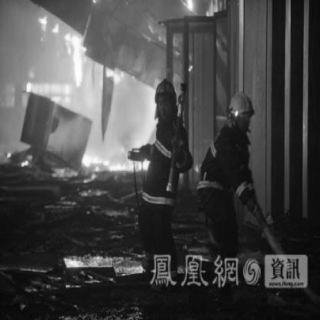Fire: (19, 159, 30, 167)
